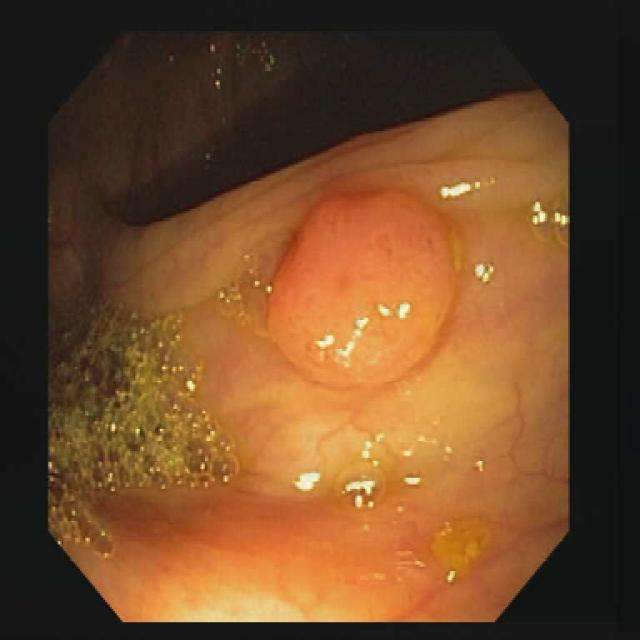tumor: (270, 191, 460, 382)
